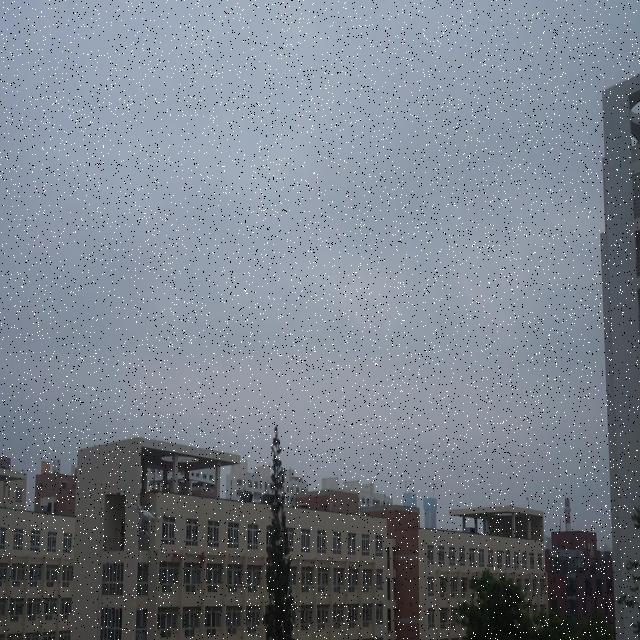UAV: (128, 504, 165, 536)
